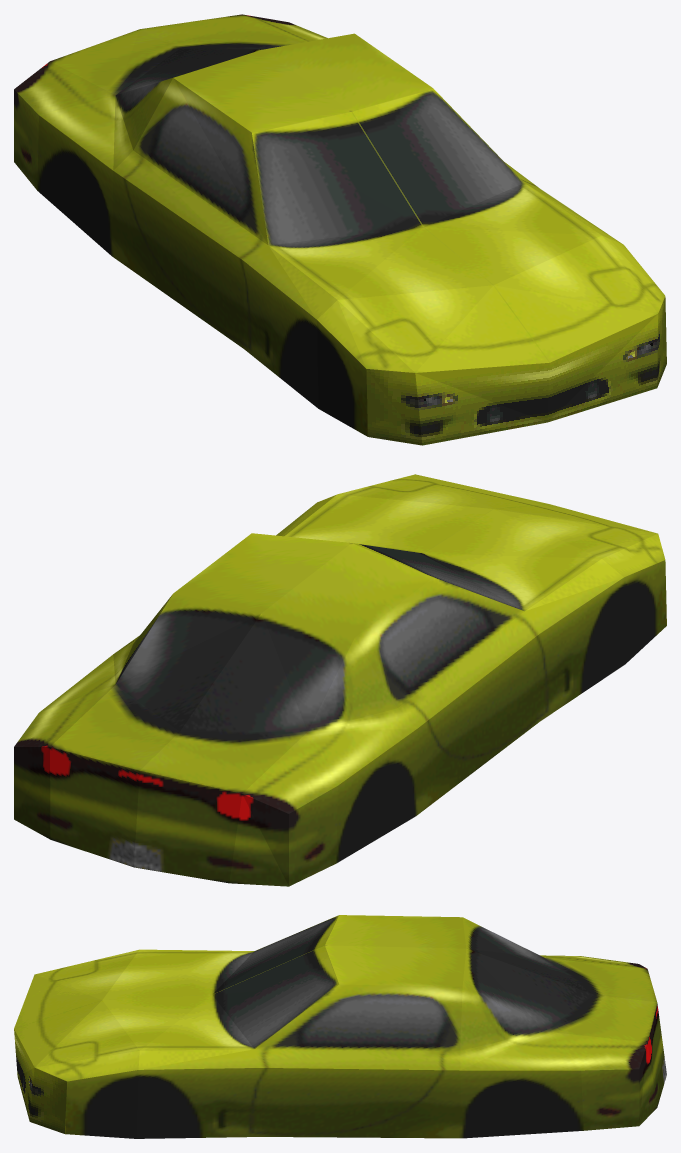
The picture shows the model from 3 angles, top to bottom: view 1: azimuth 30°, elevation 25°; view 2: azimuth 150°, elevation 25°; view 3: azimuth 270°, elevation 25°; orthographic projection. The views are drawn at different scales.
Visible parts, largest first — view 1: rsid, topv, frnt, fx__smok__frnt; view 2: rsid, topv, lbl__bklr__rsid, lbl__bkll__rsid; view 3: rsid, topv, frnt, lbl__bkll__rsid, fx__smok__frnt.
Part boxes in pixels (bbox=[...]): rsid: bbox=[14, 14, 618, 436]; topv: bbox=[252, 88, 665, 372]; frnt: bbox=[366, 297, 666, 445]; fx__smok__frnt: bbox=[547, 314, 658, 422]; rsid: bbox=[14, 503, 666, 886]; topv: bbox=[282, 474, 665, 611]; lbl__bklr__rsid: bbox=[133, 771, 241, 883]; lbl__bkll__rsid: bbox=[50, 747, 139, 867]; rsid: bbox=[64, 915, 657, 1138]; topv: bbox=[14, 915, 338, 1081]; frnt: bbox=[29, 1068, 66, 1133]; lbl__bkll__rsid: bbox=[647, 1003, 666, 1106]; fx__smok__frnt: bbox=[14, 1029, 34, 1120].
Bounding box in the file's own units: 1.8 × 0.9609 × 4.22.
4 materials, 4 textured.
